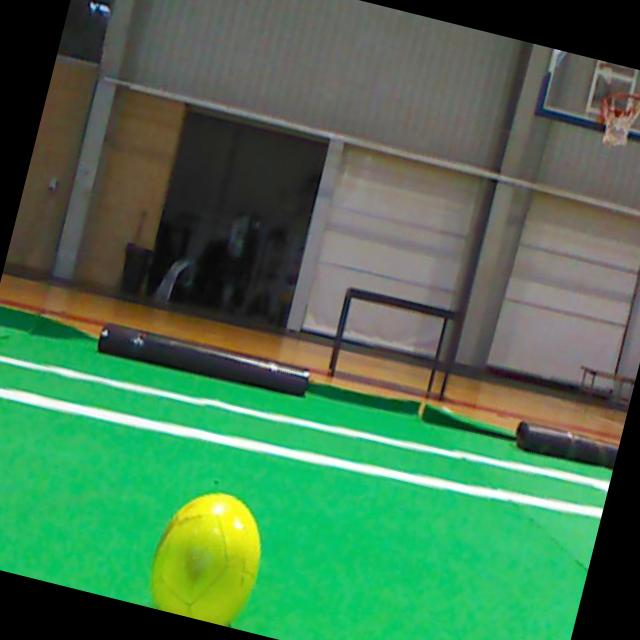ball: (150, 493, 259, 624)
